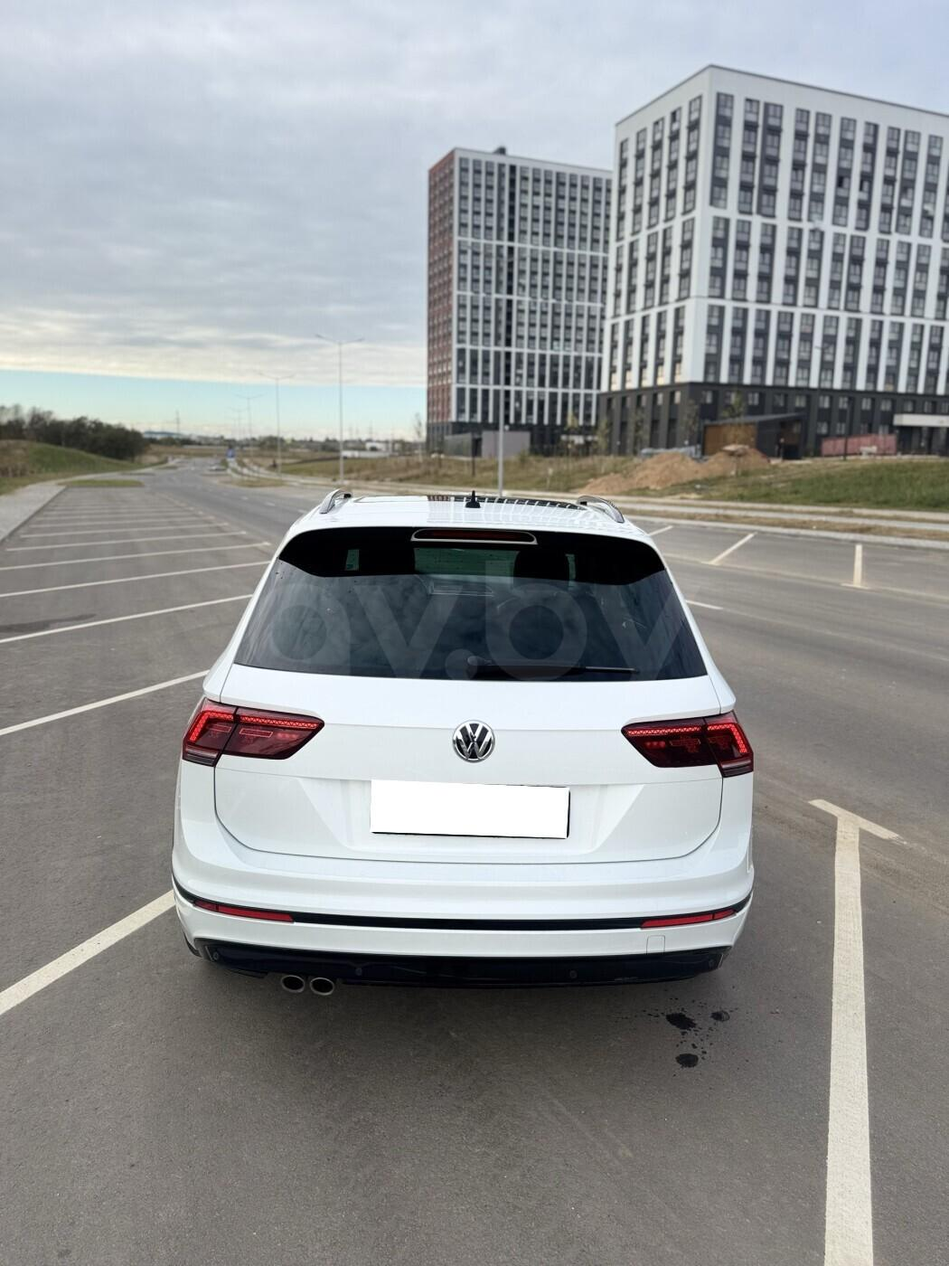Tiguan_2016-2021: (172, 487, 757, 1002)
